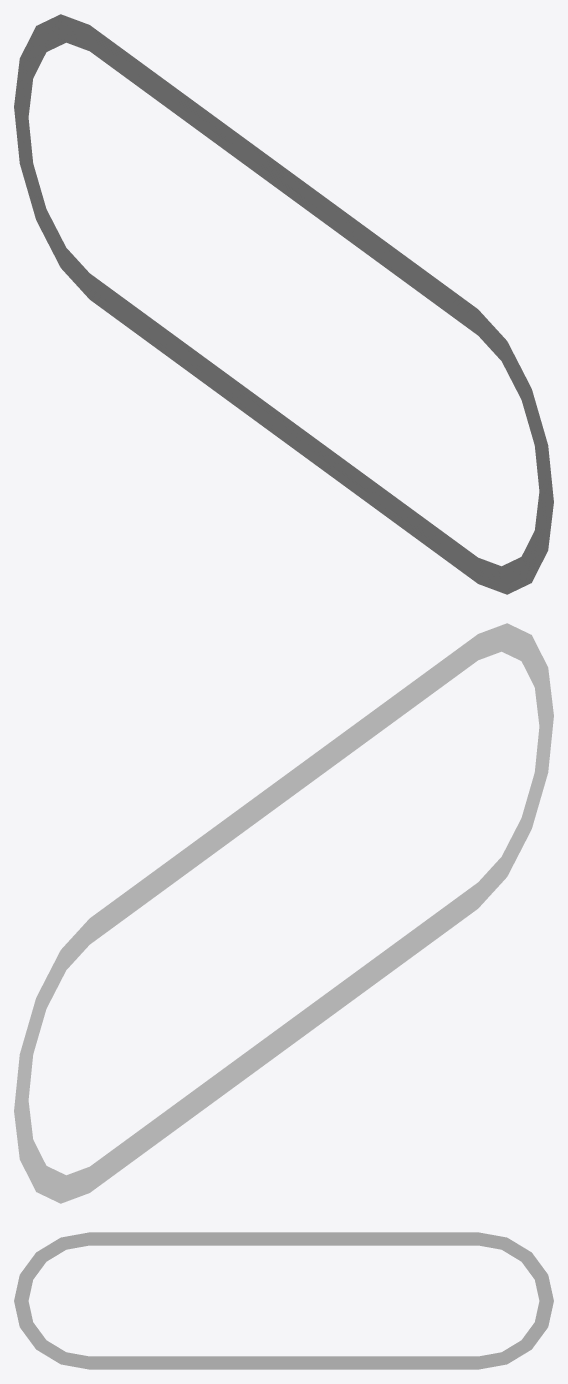
The model's file is mode_battle.obj.
The picture shows the model from 3 angles, top to bottom: view 1: azimuth 30°, elevation 25°; view 2: azimuth 150°, elevation 25°; view 3: azimuth 270°, elevation 25°; orthographic projection. The views are drawn at different scales.
Parts seen in each view (by area): view 1: mode_battle; view 2: mode_battle; view 3: mode_battle.
Part boxes in pixels (x1,y1,x2,y2): mode_battle: [14, 14, 553, 594]; mode_battle: [14, 623, 553, 1203]; mode_battle: [14, 1232, 553, 1369].
Bounding box in the file's own units: 1.91e-06 × 18.73 × 66.75.
1 material, 1 textured.
